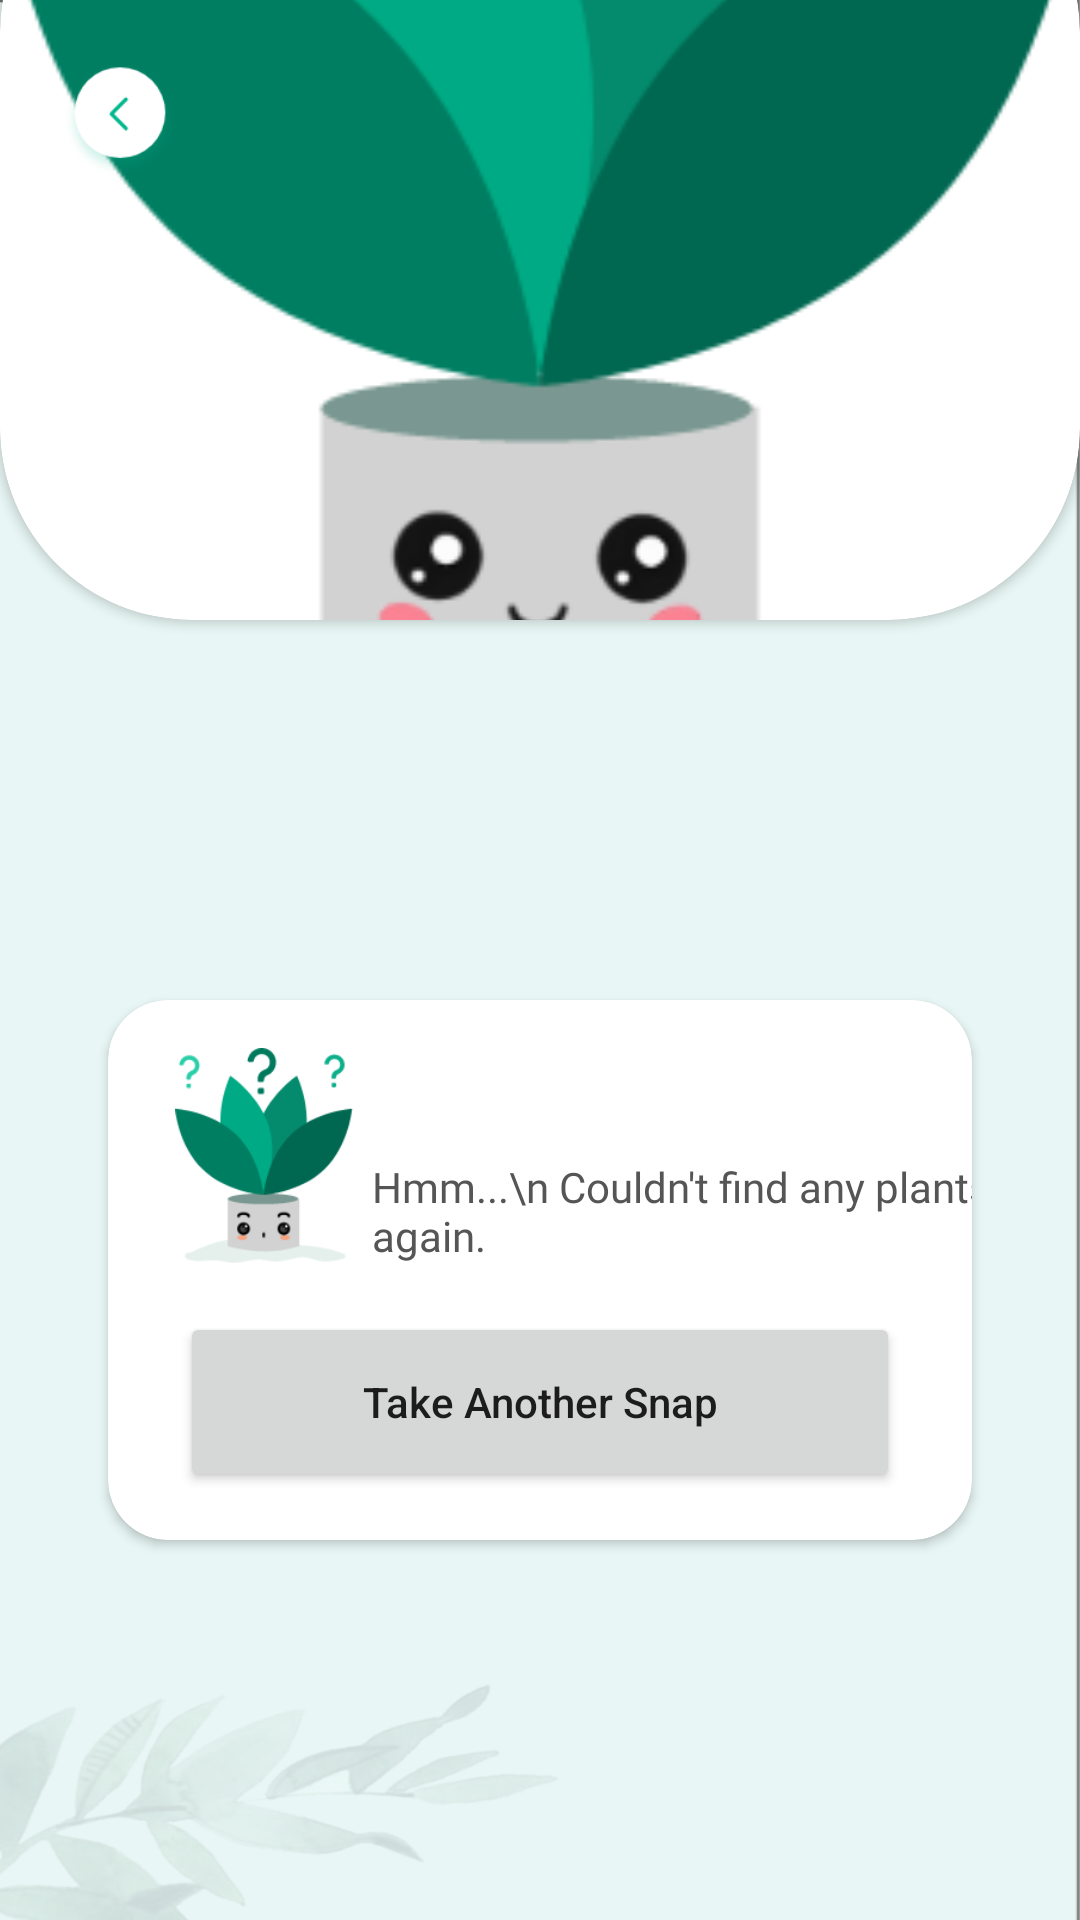

Icon click points for this 1080w x 1920h phone screenshot, format (x=x, y=y):
back: (x=120, y=120)
notfound: (x=264, y=1155)
